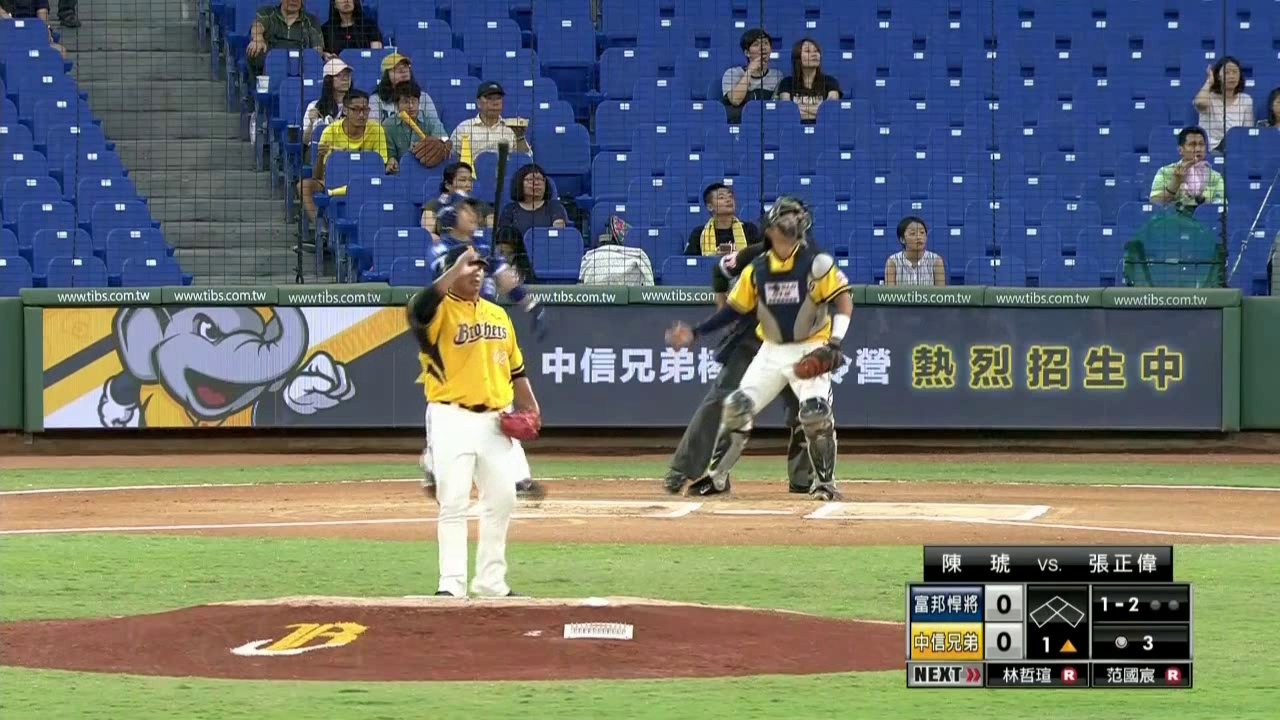base: (1025, 590, 1085, 633)
bat: (488, 141, 511, 268)
out: (1143, 591, 1182, 614)
score1: (988, 590, 1016, 621)
score2: (994, 623, 1019, 661)
session: (1029, 633, 1086, 659)
strikeball: (1098, 591, 1143, 614)
total: (1106, 626, 1156, 656)
